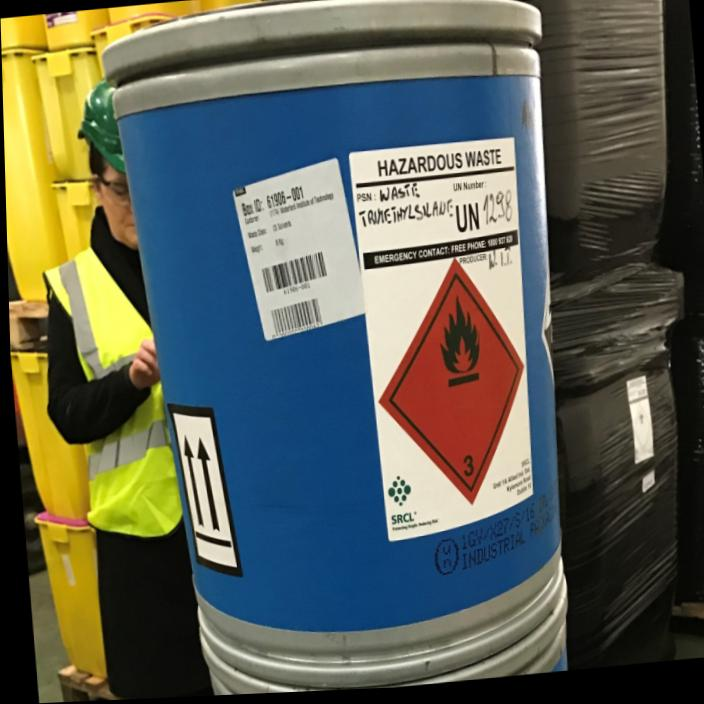can and bottle trash cans: (379, 260, 524, 504)
